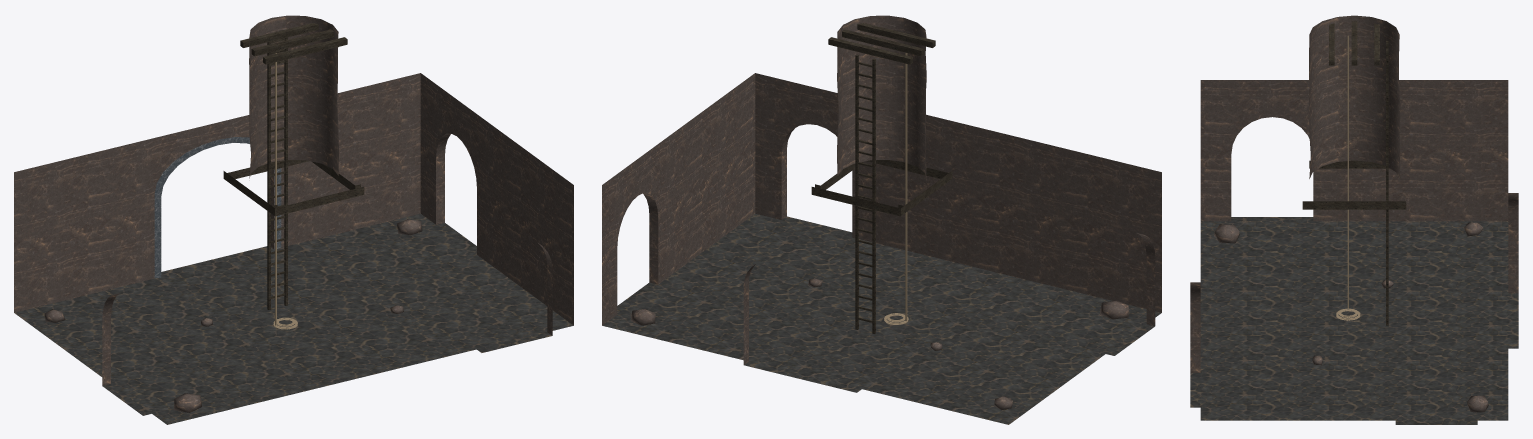
File: extraction-gate.ba59ef8f.gltf
3 views of the same model, side by side, from view 1: azimuth 30°, elevation 25°; view 2: azimuth 150°, elevation 25°; view 3: azimuth 270°, elevation 25° (orthographic).
Parts seen in each view (by area): view 1: extraction-gate-mesh, extraction-gate-shaft, extraction-gate-way-out; view 2: extraction-gate-mesh, extraction-gate-shaft, extraction-gate-way-out; view 3: extraction-gate-mesh, extraction-gate-shaft, extraction-gate-way-out.
Part boxes in pixels (bbox=[...]): extraction-gate-mesh: bbox=[14, 73, 573, 424]; extraction-gate-shaft: bbox=[249, 15, 338, 178]; extraction-gate-way-out: bbox=[223, 23, 364, 329]; extraction-gate-mesh: bbox=[602, 73, 1161, 424]; extraction-gate-shaft: bbox=[837, 15, 926, 180]; extraction-gate-way-out: bbox=[811, 23, 952, 333]; extraction-gate-mesh: bbox=[1190, 80, 1518, 424]; extraction-gate-shaft: bbox=[1309, 15, 1400, 178]; extraction-gate-way-out: bbox=[1302, 21, 1406, 325].
Bounding box in the file's own units: 12 × 7.81 × 8.
6 materials, 4 textured.
